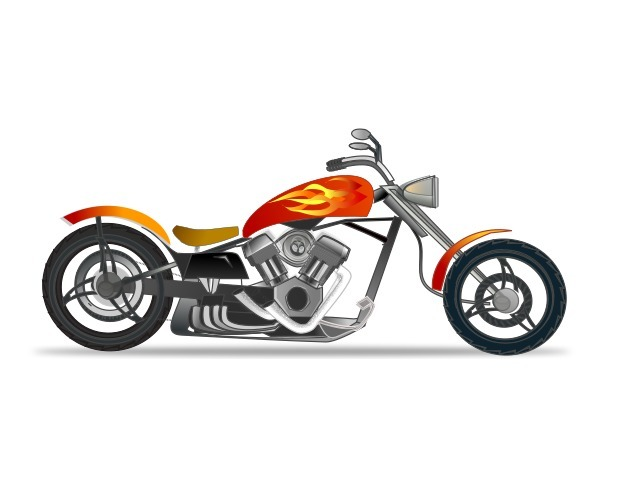motorbike: (36, 126, 570, 347)
